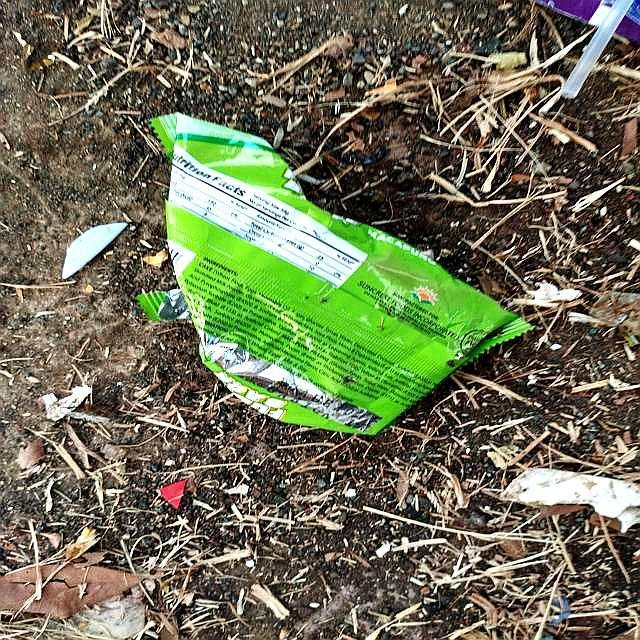Non-biodegradable: (144, 111, 534, 440)
